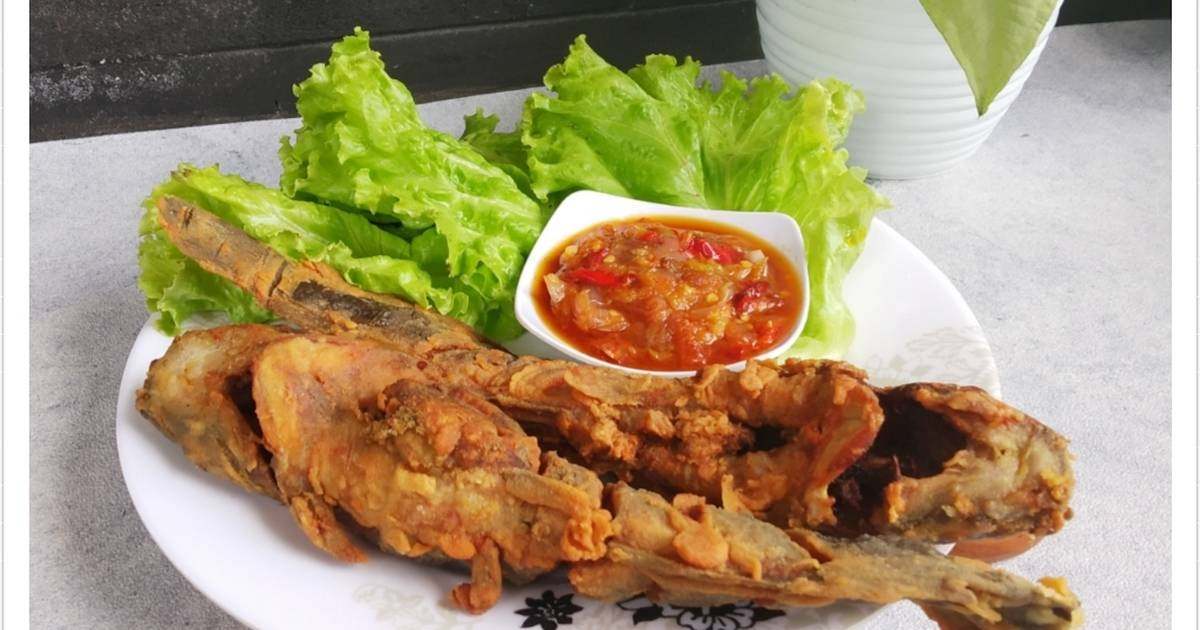pecel_lele: (94, 320, 1088, 630)
